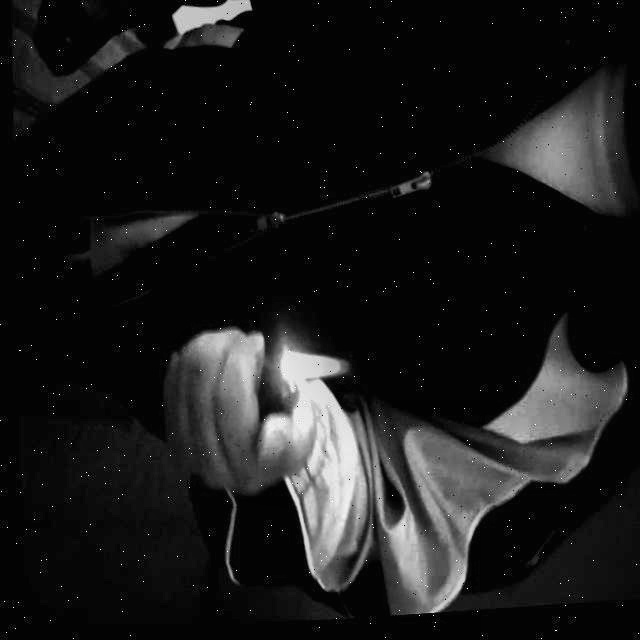Fire: (279, 356, 345, 382)
